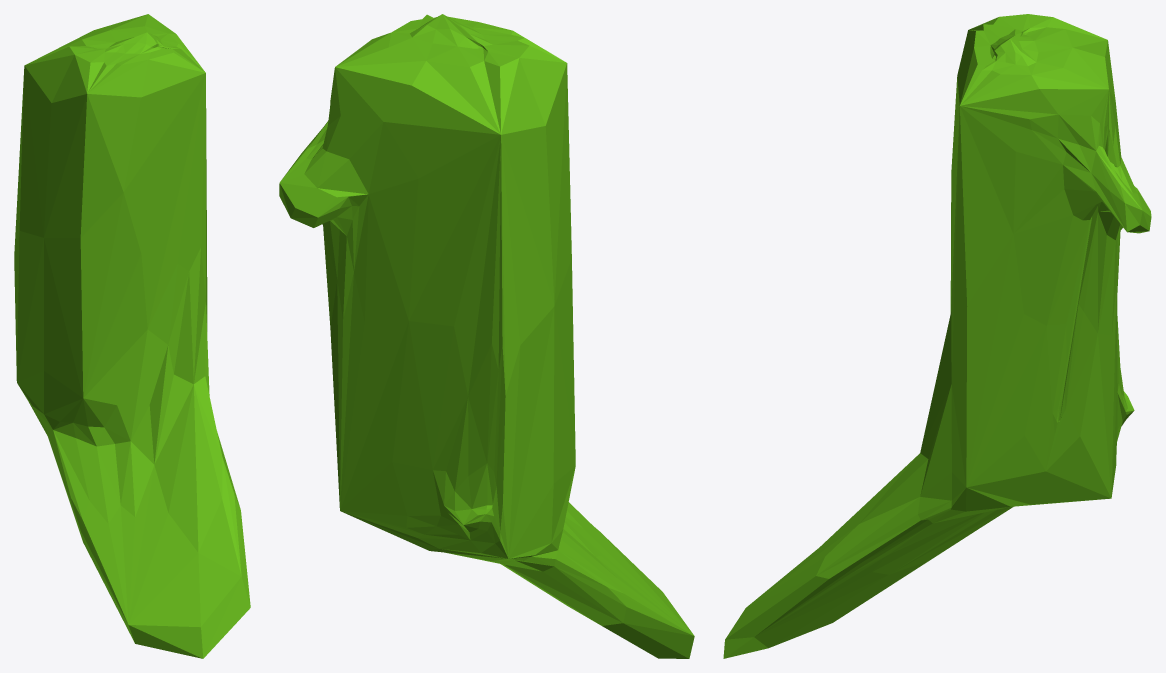
3 renders of one model, left to right at view 1: azimuth 30°, elevation 25°; view 2: azimuth 150°, elevation 25°; view 3: azimuth 270°, elevation 25°, orthographic. The views are drawn at different scales.
Parts seen in each view (by area): view 1: 745_Cube.2992; view 2: 745_Cube.2992; view 3: 745_Cube.2992.
Part boxes in pixels (x1,y1,x2,y2): 745_Cube.2992: (14, 14, 250, 658); 745_Cube.2992: (279, 14, 694, 658); 745_Cube.2992: (723, 14, 1151, 658).
Bounding box in the file's own units: 6.27 × 17.98 × 10.63.
